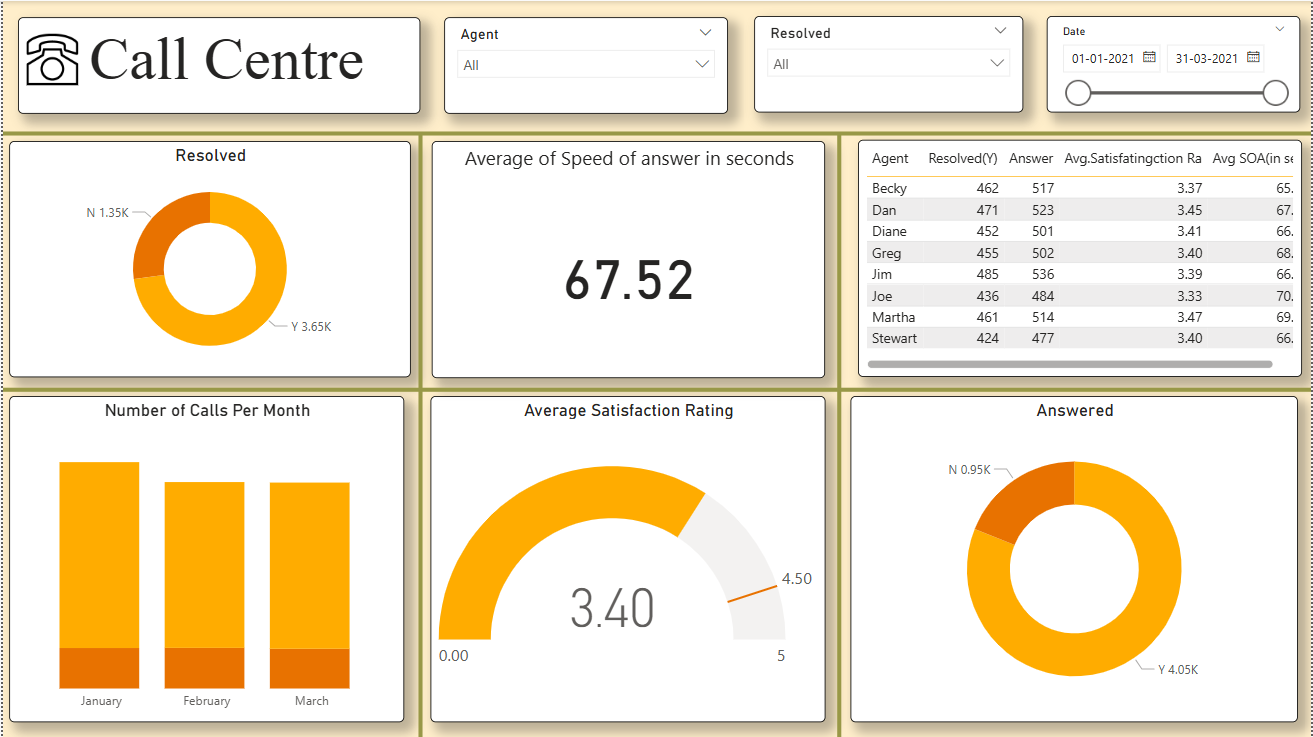

Layout of this report page (visuals, bound fields, positions):
{"tool":"powerbi","page":{"name":"Page 1","canvas":[1280,720],"ordinal":0},"visuals":[{"type":"slicer","fields":{"Values":["Sheet1.Agent"]},"box":[431.7,15.9,277.6,94.2],"z":0},{"type":"slicer","fields":{"Values":["Sheet1.Date"]},"box":[1021.1,14.7,248.2,94.2],"z":1000},{"type":"slicer","fields":{"Values":["Sheet1.Resolved"]},"box":[734.9,14.7,262.9,94.2],"z":2000},{"type":"gauge","title":"Average Satisfaction Rating","fields":{"Y":["Avg(Sheet1.Satisfaction rating)"],"MaxValue":["Max(Sheet1.Satisfaction rating)"]},"box":[418.2,386.4,386.4,319.2],"z":3000},{"type":"donutChart","title":"Resolved","fields":{"Category":["Sheet1.Resolved"],"Y":["CountNonNull(Sheet1.Resolved)"]},"box":[6.1,137,392.5,231.1],"z":4000},{"type":"donutChart","title":" Answered","fields":{"Y":["CountNonNull(Sheet1.Answered (Y/N))"],"Category":["Sheet1.Answered (Y/N)"]},"box":[829.1,386.4,437.8,319.2],"z":5000},{"type":"card","title":"Average of Speed of answer in seconds","fields":{"Values":["Avg(Sheet1.Speed of answer in seconds)"]},"box":[419.4,137,385.2,232.3],"z":6000},{"type":"columnChart","title":"Number of Calls Per Month","fields":{"Category":["Sheet1.Date.Variation.Date Hierarchy.Month"],"Y":["CountNonNull(Sheet1.Answered (Y/N))"],"Series":["Sheet1.Answered (Y/N)"]},"box":[6.1,386.4,386.4,319.2],"z":7000},{"type":"tableEx","title":"Agent statistics","fields":{"Values":["Sheet1.Agent","Sheet1.Resolved(Y)","Sheet1.Answer","Avg(Sheet1.Satisfaction rating)","Avg(Sheet1.Speed of answer in seconds)"]},"box":[836.4,135.7,434.1,232.3],"z":8000},{"type":"textbox","box":[14.7,15.9,393.8,94.2],"z":9000},{"type":"shape","box":[0,123.5,1280.3,12.2],"z":10000},{"type":"shape","box":[398.6,129.6,19.6,590.6],"z":11000},{"type":"shape","box":[0,374.2,1280,12.2],"z":12000},{"type":"shape","box":[808.3,129.4,19.6,590.6],"z":13000},{"type":"image","box":[18.3,23.2,59.9,68.5],"z":14000}]}

Visuals, with their boxes in screenshot pixels (x1, y1, x2, y2), scaled from the page's 1280x720 canvas onto the 1313x737 screenshot:
slicer - Sheet1.Agent: (443,16,728,113)
slicer - Sheet1.Date: (1047,15,1302,111)
slicer - Sheet1.Resolved: (754,15,1024,111)
"Average Satisfaction Rating" gauge: (429,396,825,722)
"Resolved" donutChart: (6,140,409,377)
" Answered" donutChart: (850,396,1300,722)
"Average of Speed of answer in seconds" card: (430,140,825,378)
"Number of Calls Per Month" columnChart: (6,396,403,722)
"Agent statistics" tableEx: (858,139,1303,377)
textbox: (15,16,419,113)
shape: (0,126,1312,139)
shape: (409,133,429,736)
shape: (0,383,1312,396)
shape: (829,132,849,736)
image: (19,24,80,94)
